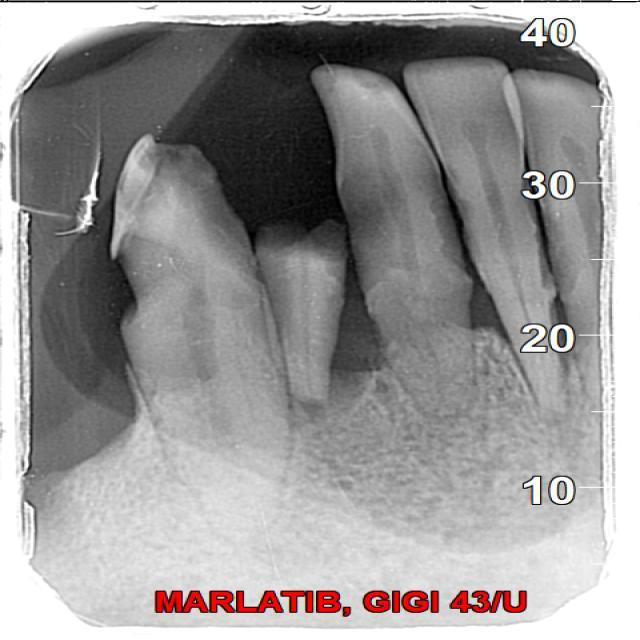individual-tooth-8tto: (119, 147, 303, 538), (400, 44, 566, 427), (324, 67, 477, 409)
